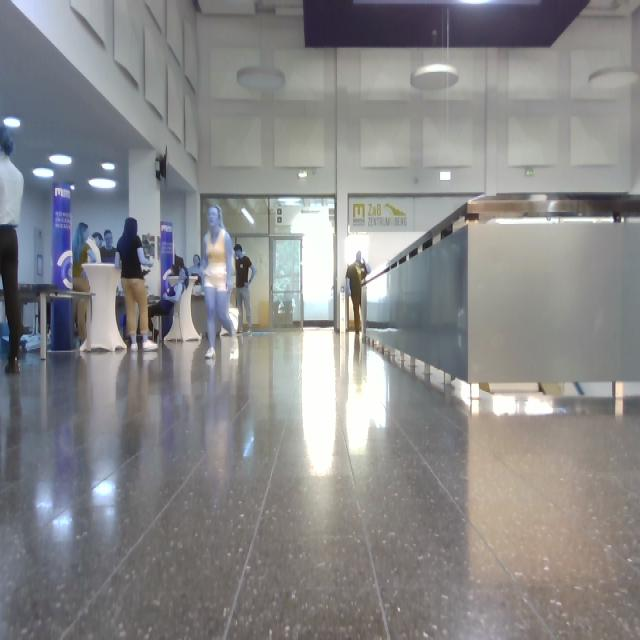door: (202, 196, 336, 329)
light bulb: (238, 30, 285, 92), (412, 64, 457, 92), (238, 66, 284, 93), (412, 64, 458, 90), (589, 68, 640, 90), (442, 10, 450, 58), (89, 178, 116, 189), (50, 154, 72, 166), (33, 169, 54, 178), (4, 117, 20, 128), (458, 1, 495, 5), (102, 162, 115, 170)
person: (1, 126, 24, 373), (118, 218, 158, 350), (202, 206, 236, 358), (149, 258, 190, 345), (346, 252, 369, 333), (73, 224, 99, 292), (237, 245, 256, 332), (76, 301, 89, 345), (101, 230, 116, 262), (190, 256, 202, 276)
pillar: (129, 150, 161, 296), (53, 184, 72, 292), (52, 298, 74, 352)
staircase: (362, 196, 640, 416)
table: (22, 285, 92, 360), (85, 264, 124, 352), (167, 278, 201, 341)
tiled floor: (1, 332, 640, 640)
